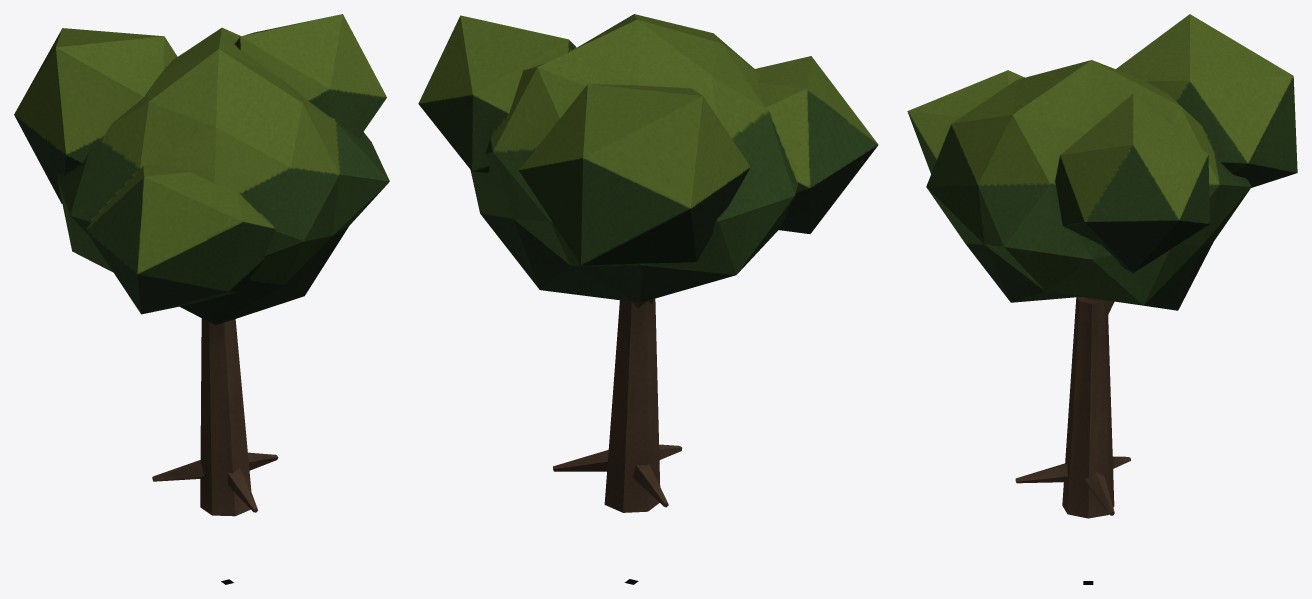
File: feature_tree_4.fbx
3 renders of one model, left to right at view 1: azimuth 30°, elevation 25°; view 2: azimuth 150°, elevation 25°; view 3: azimuth 270°, elevation 25°, orthographic. The views are drawn at different scales.
Parts seen in each view (by area): view 1: base_bar; view 2: base_bar; view 3: base_bar.
Part boxes in pixels (x1,y1,x2,y2): base_bar: (14,14,389,516); base_bar: (418,14,878,512); base_bar: (907,14,1297,518).
Bounding box in the file's own units: 740 × 1182 × 804.
Materials: 2 (2 with a texture image).
